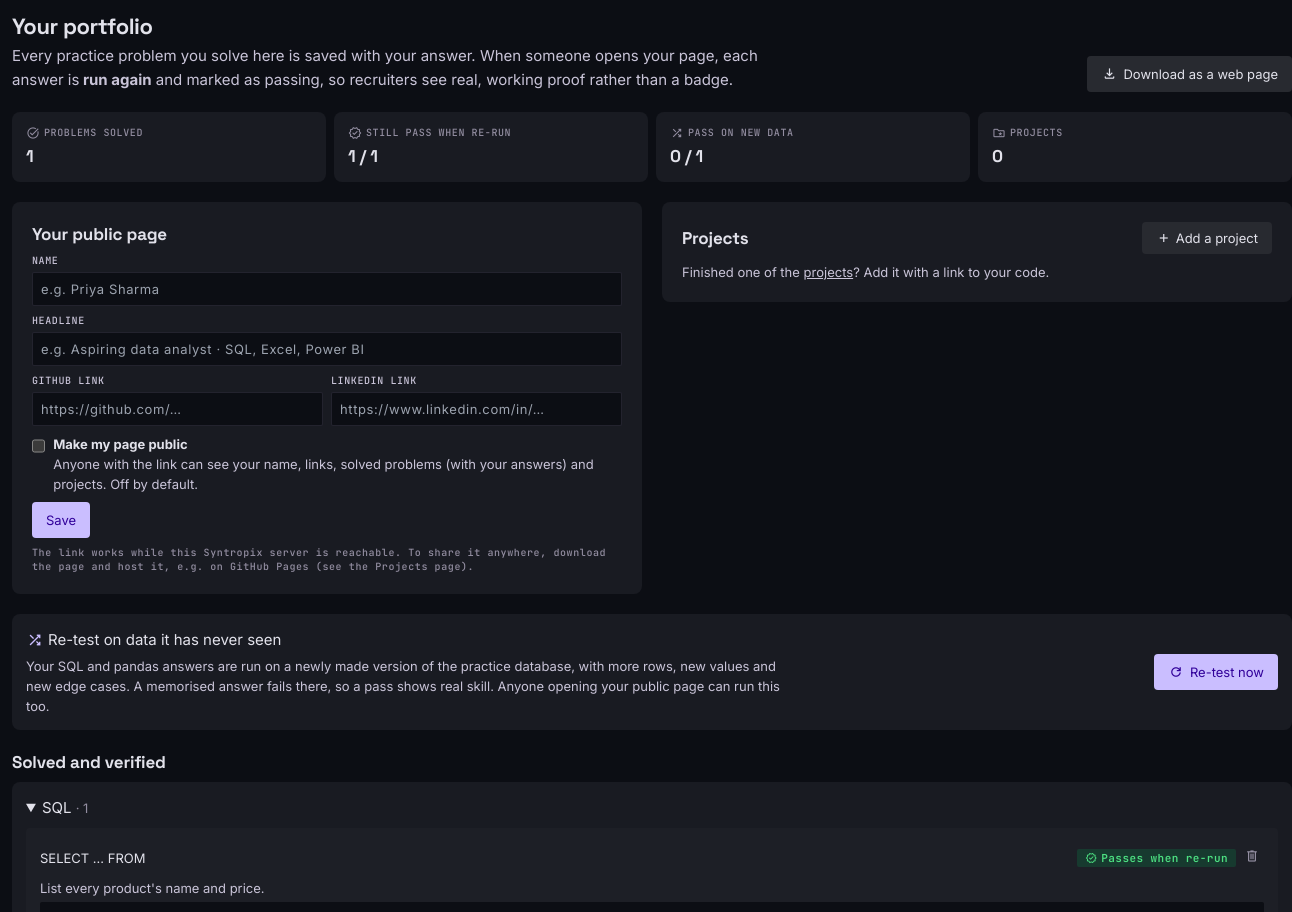
Test: portfolio edit key › keeps the key it is given and sends it with every change
The image size is (1292, 912).
Expected: the text "Passes when re-run" is shown, [1077, 849, 1236, 867]
What coordinates should you click on to do the following:
click the button "Save"
I would click on:
 (61, 520)
Its box is [32, 502, 90, 538].
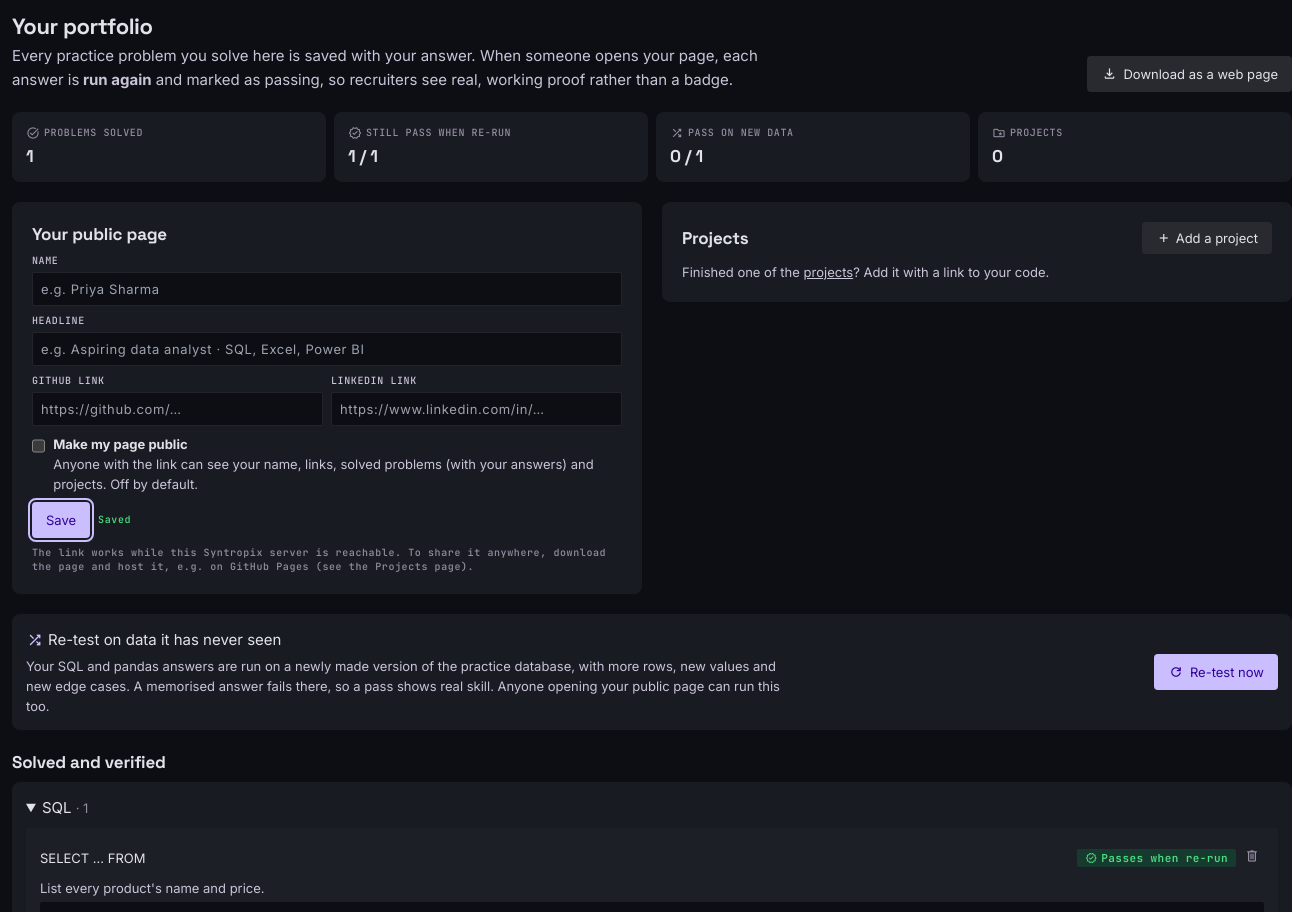
Result: the text "Saved" is shown at [98, 513, 131, 527]
